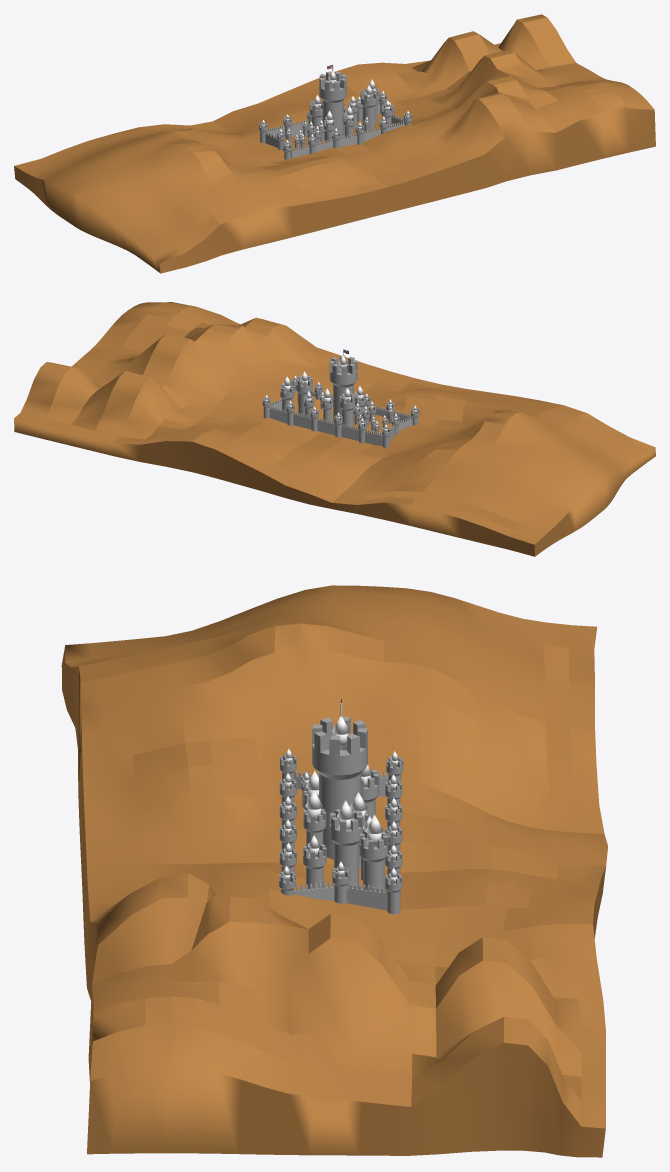
Rendered from modcastleUK.fbx.
3 renders of one model, top to bottom at view 1: azimuth 30°, elevation 25°; view 2: azimuth 150°, elevation 25°; view 3: azimuth 270°, elevation 25°, orthographic. The views are drawn at different scales.
Parts seen in each view (by area): view 1: Plane, tower.017, tower.033; view 2: Plane, tower.017, tower.018, tower.033; view 3: Plane, tower.017, tower.033, tower.034.
Part boxes in pixels (<box>): Plane: <box>14,14,655,273</box>; tower.017: <box>319,71,346,139</box>; tower.033: <box>360,89,377,129</box>; Plane: <box>14,302,655,556</box>; tower.017: <box>329,355,357,425</box>; tower.018: <box>340,393,355,427</box>; tower.033: <box>296,376,312,416</box>; Plane: <box>61,585,607,1157</box>; tower.017: <box>312,716,367,859</box>; tower.033: <box>329,808,362,888</box>; tower.034: <box>359,831,388,892</box>.
Bounding box in the file's own units: 17198 × 3106 × 7784.
